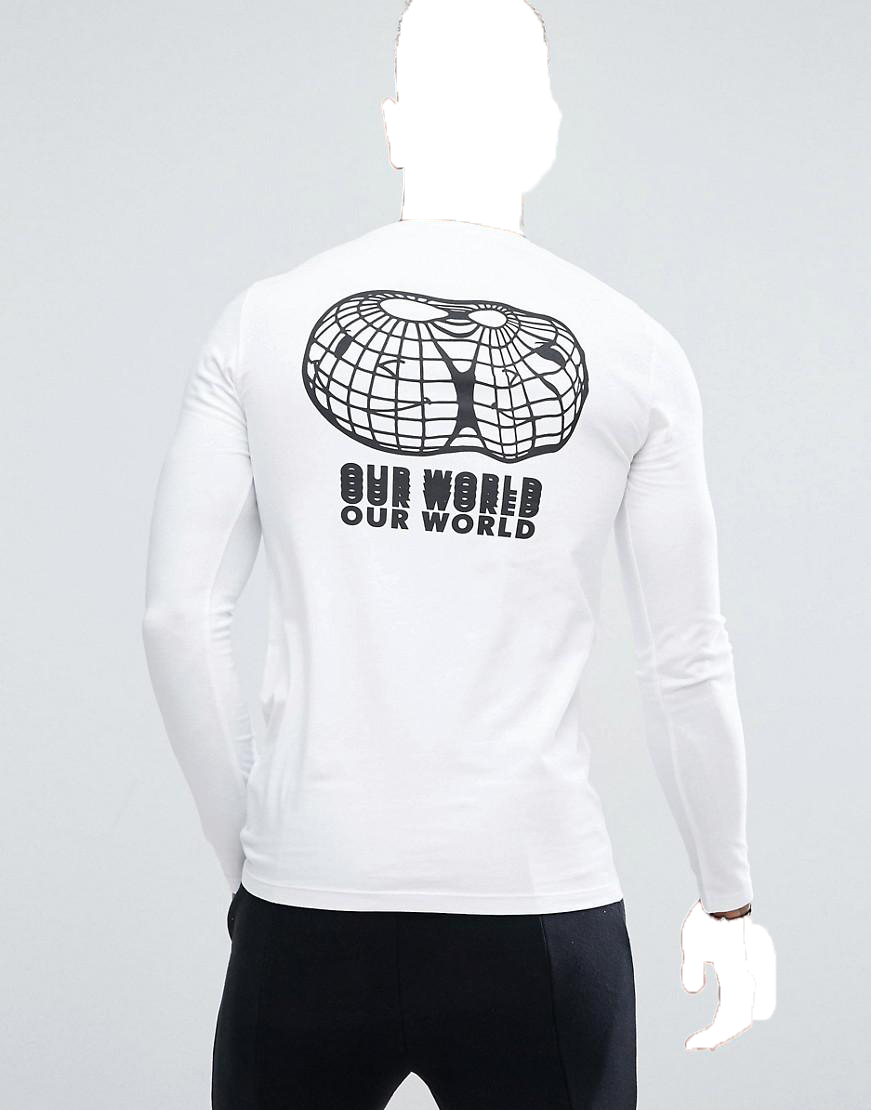teeshirt: (117, 220, 798, 920)
